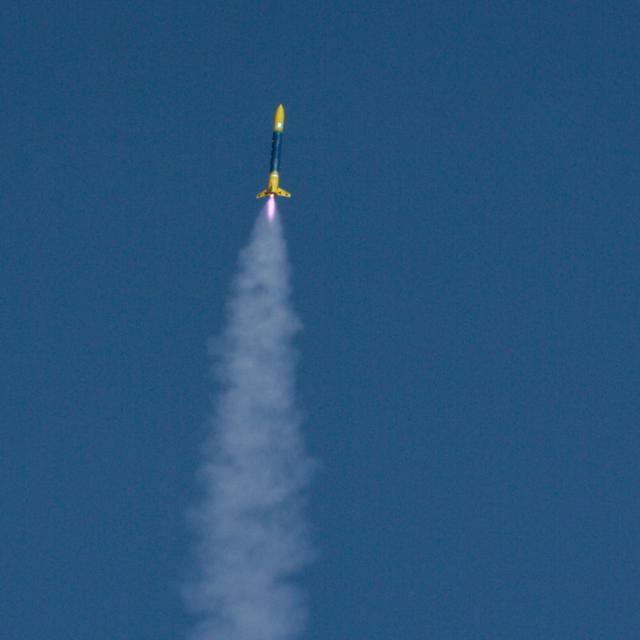Rocket: (256, 103, 292, 199)
